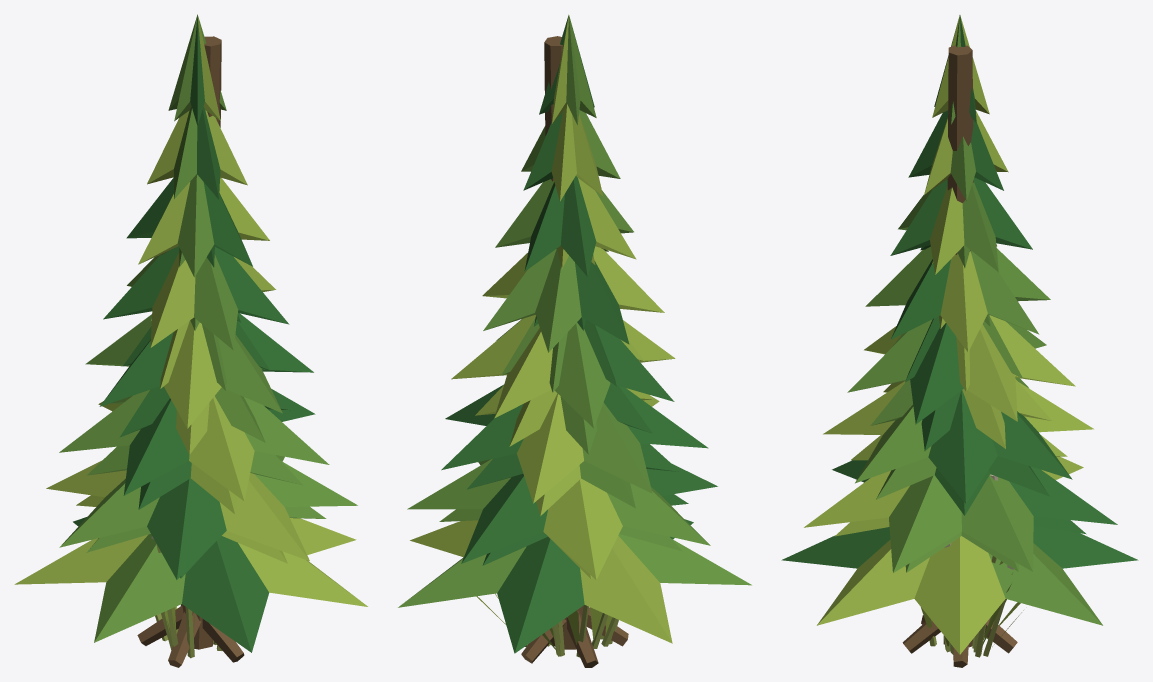
File: tree-prototypes.glb
The picture shows the model from 3 angles, left to right: view 1: azimuth 30°, elevation 25°; view 2: azimuth 150°, elevation 25°; view 3: azimuth 270°, elevation 25°; orthographic projection.
Parts seen in each view (by area): view 1: hm05_cypress_prototype_0, hm05_cypress_prototype_1, hm05_reed_prototype_1; view 2: hm05_cypress_prototype_0, hm05_cypress_prototype_1, hm05_reed_prototype_1, hm05_reed_prototype_0; view 3: hm05_cypress_prototype_0, hm05_cypress_prototype_1, hm05_reed_prototype_0, hm05_reed_prototype_1.
Part boxes in pixels (x1,y1,x2,y2): hm05_cypress_prototype_0: [14, 14, 367, 667]; hm05_cypress_prototype_1: [76, 178, 326, 649]; hm05_reed_prototype_1: [151, 536, 213, 658]; hm05_cypress_prototype_0: [398, 14, 751, 667]; hm05_cypress_prototype_1: [439, 245, 688, 645]; hm05_reed_prototype_1: [463, 536, 618, 656]; hm05_reed_prototype_0: [476, 596, 618, 657]; hm05_cypress_prototype_0: [781, 15, 1138, 667]; hm05_cypress_prototype_1: [834, 174, 1086, 646]; hm05_reed_prototype_0: [921, 474, 1023, 656]; hm05_reed_prototype_1: [944, 543, 1020, 657].
Bounding box in the file's own units: 1.75 × 3.5 × 1.79.
